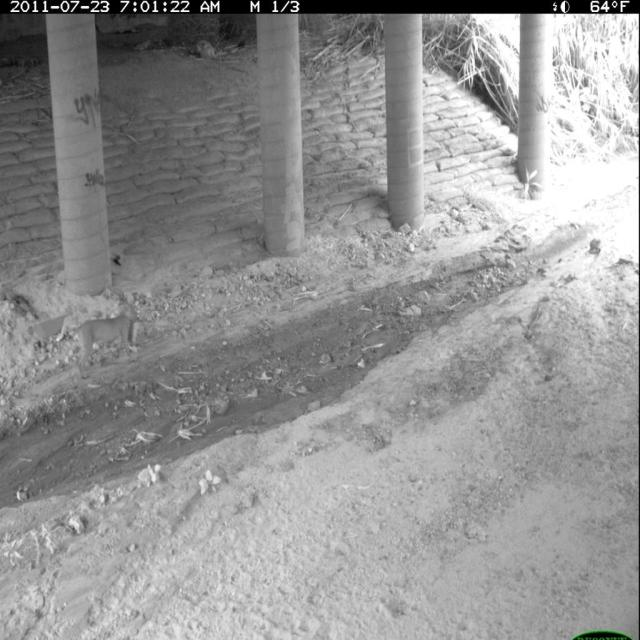bobcat: (69, 298, 144, 386)
rabbit: (128, 315, 143, 355)
